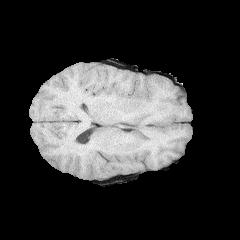glioma: (106, 71, 153, 107)
